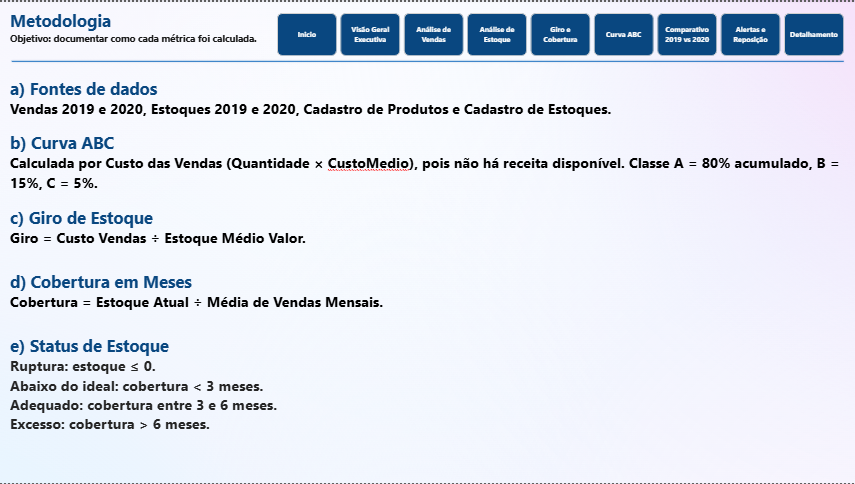

The page's visual inventory and layout, read from the dashboard file:
{"tool":"powerbi","page":{"name":"Metodologia","canvas":[1920,1080],"ordinal":9},"visuals":[{"type":"textbox","box":[24,0,576,120],"z":0},{"type":"pageNavigator","title":"Áreas de Análise:","box":[624,24,1272,96],"z":1000},{"type":"shape","box":[24,120,1872,24],"z":2000},{"type":"textbox","box":[24,168,1872,120],"z":3000},{"type":"textbox","box":[24,288,1872,150],"z":4000},{"type":"textbox","box":[24,600,1872,120],"z":5000},{"type":"textbox","box":[24,456,1872,120],"z":6000},{"type":"textbox","box":[24,744,1872,312],"z":7000}]}

Visuals, with their boxes in screenshot pixels (x1, y1, x2, y2), scaled from the page's 1920x1080 canvas onto the 855x484 screenshot:
textbox: l=11, t=0, r=267, b=54
"Áreas de Análise:" pageNavigator: l=278, t=11, r=844, b=54
shape: l=11, t=54, r=844, b=65
textbox: l=11, t=75, r=844, b=129
textbox: l=11, t=129, r=844, b=196
textbox: l=11, t=269, r=844, b=323
textbox: l=11, t=204, r=844, b=258
textbox: l=11, t=333, r=844, b=473
